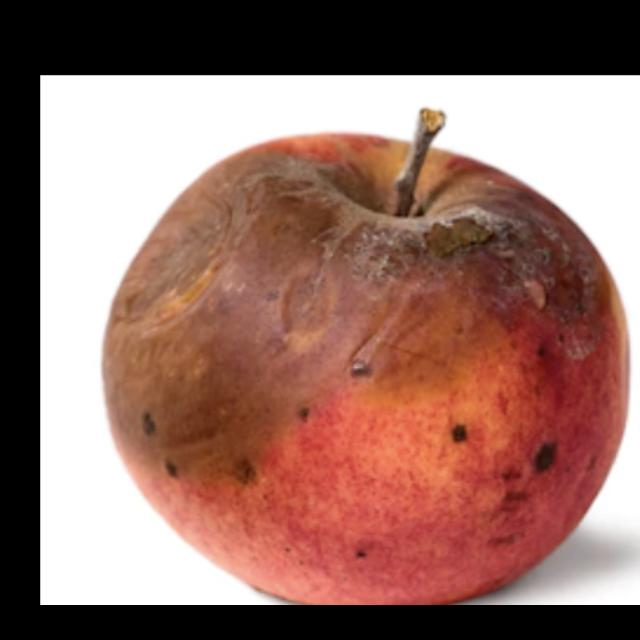Apel Tidak Segar: (108, 133, 634, 605)
